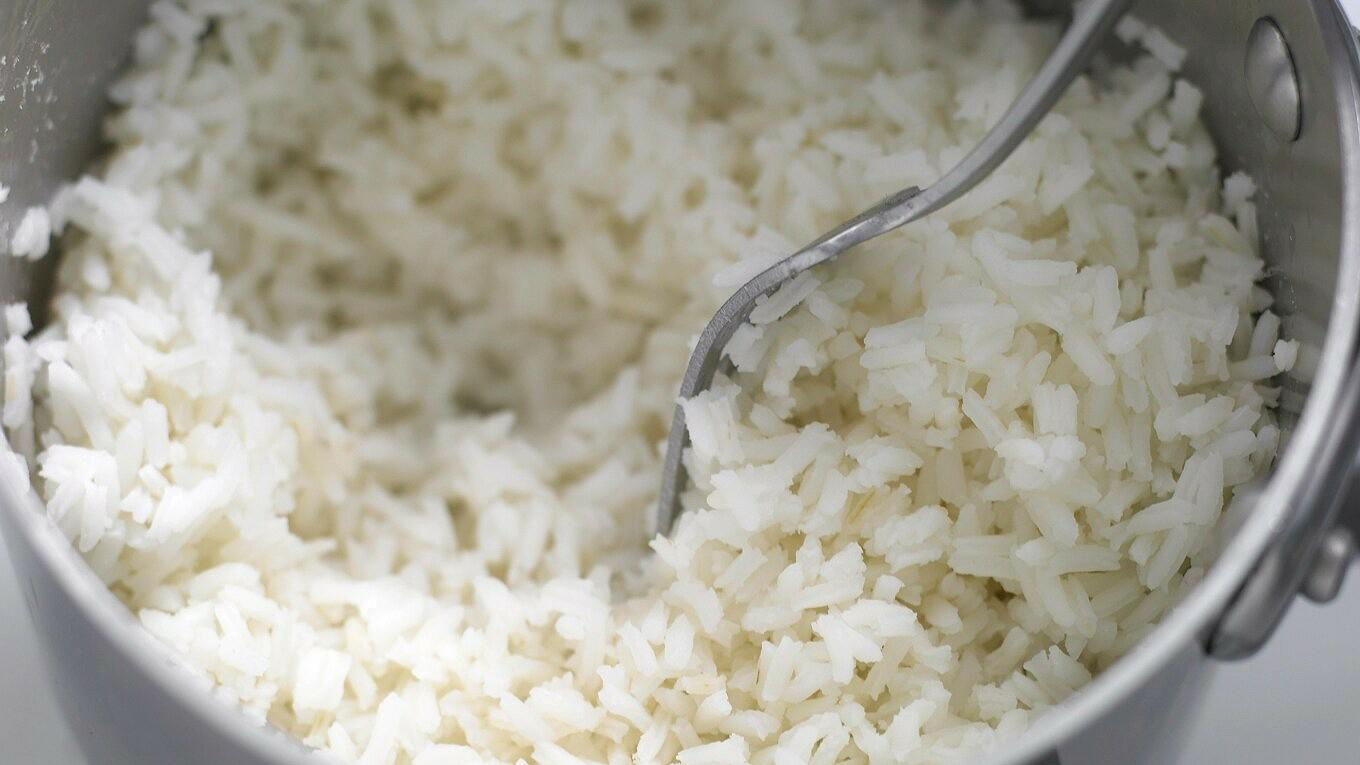WhiteRice: (0, 0, 1302, 765)
